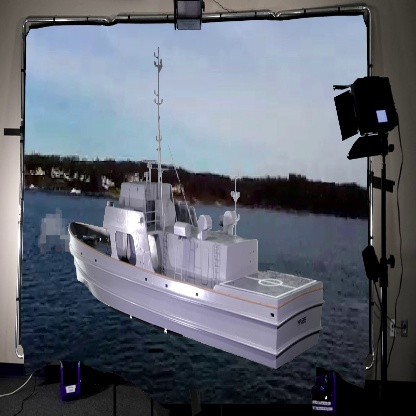YP689: (67, 45, 323, 372)
